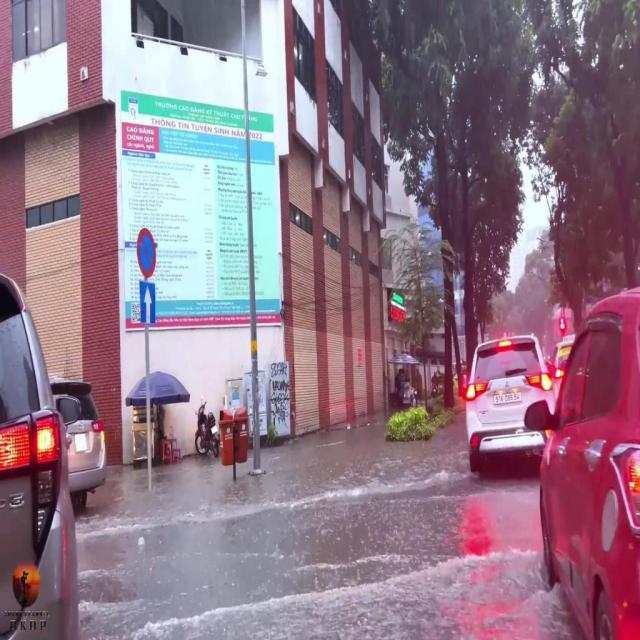cam_do_xe: (136, 227, 156, 278)
duong_mot_chieu: (140, 282, 156, 326)
